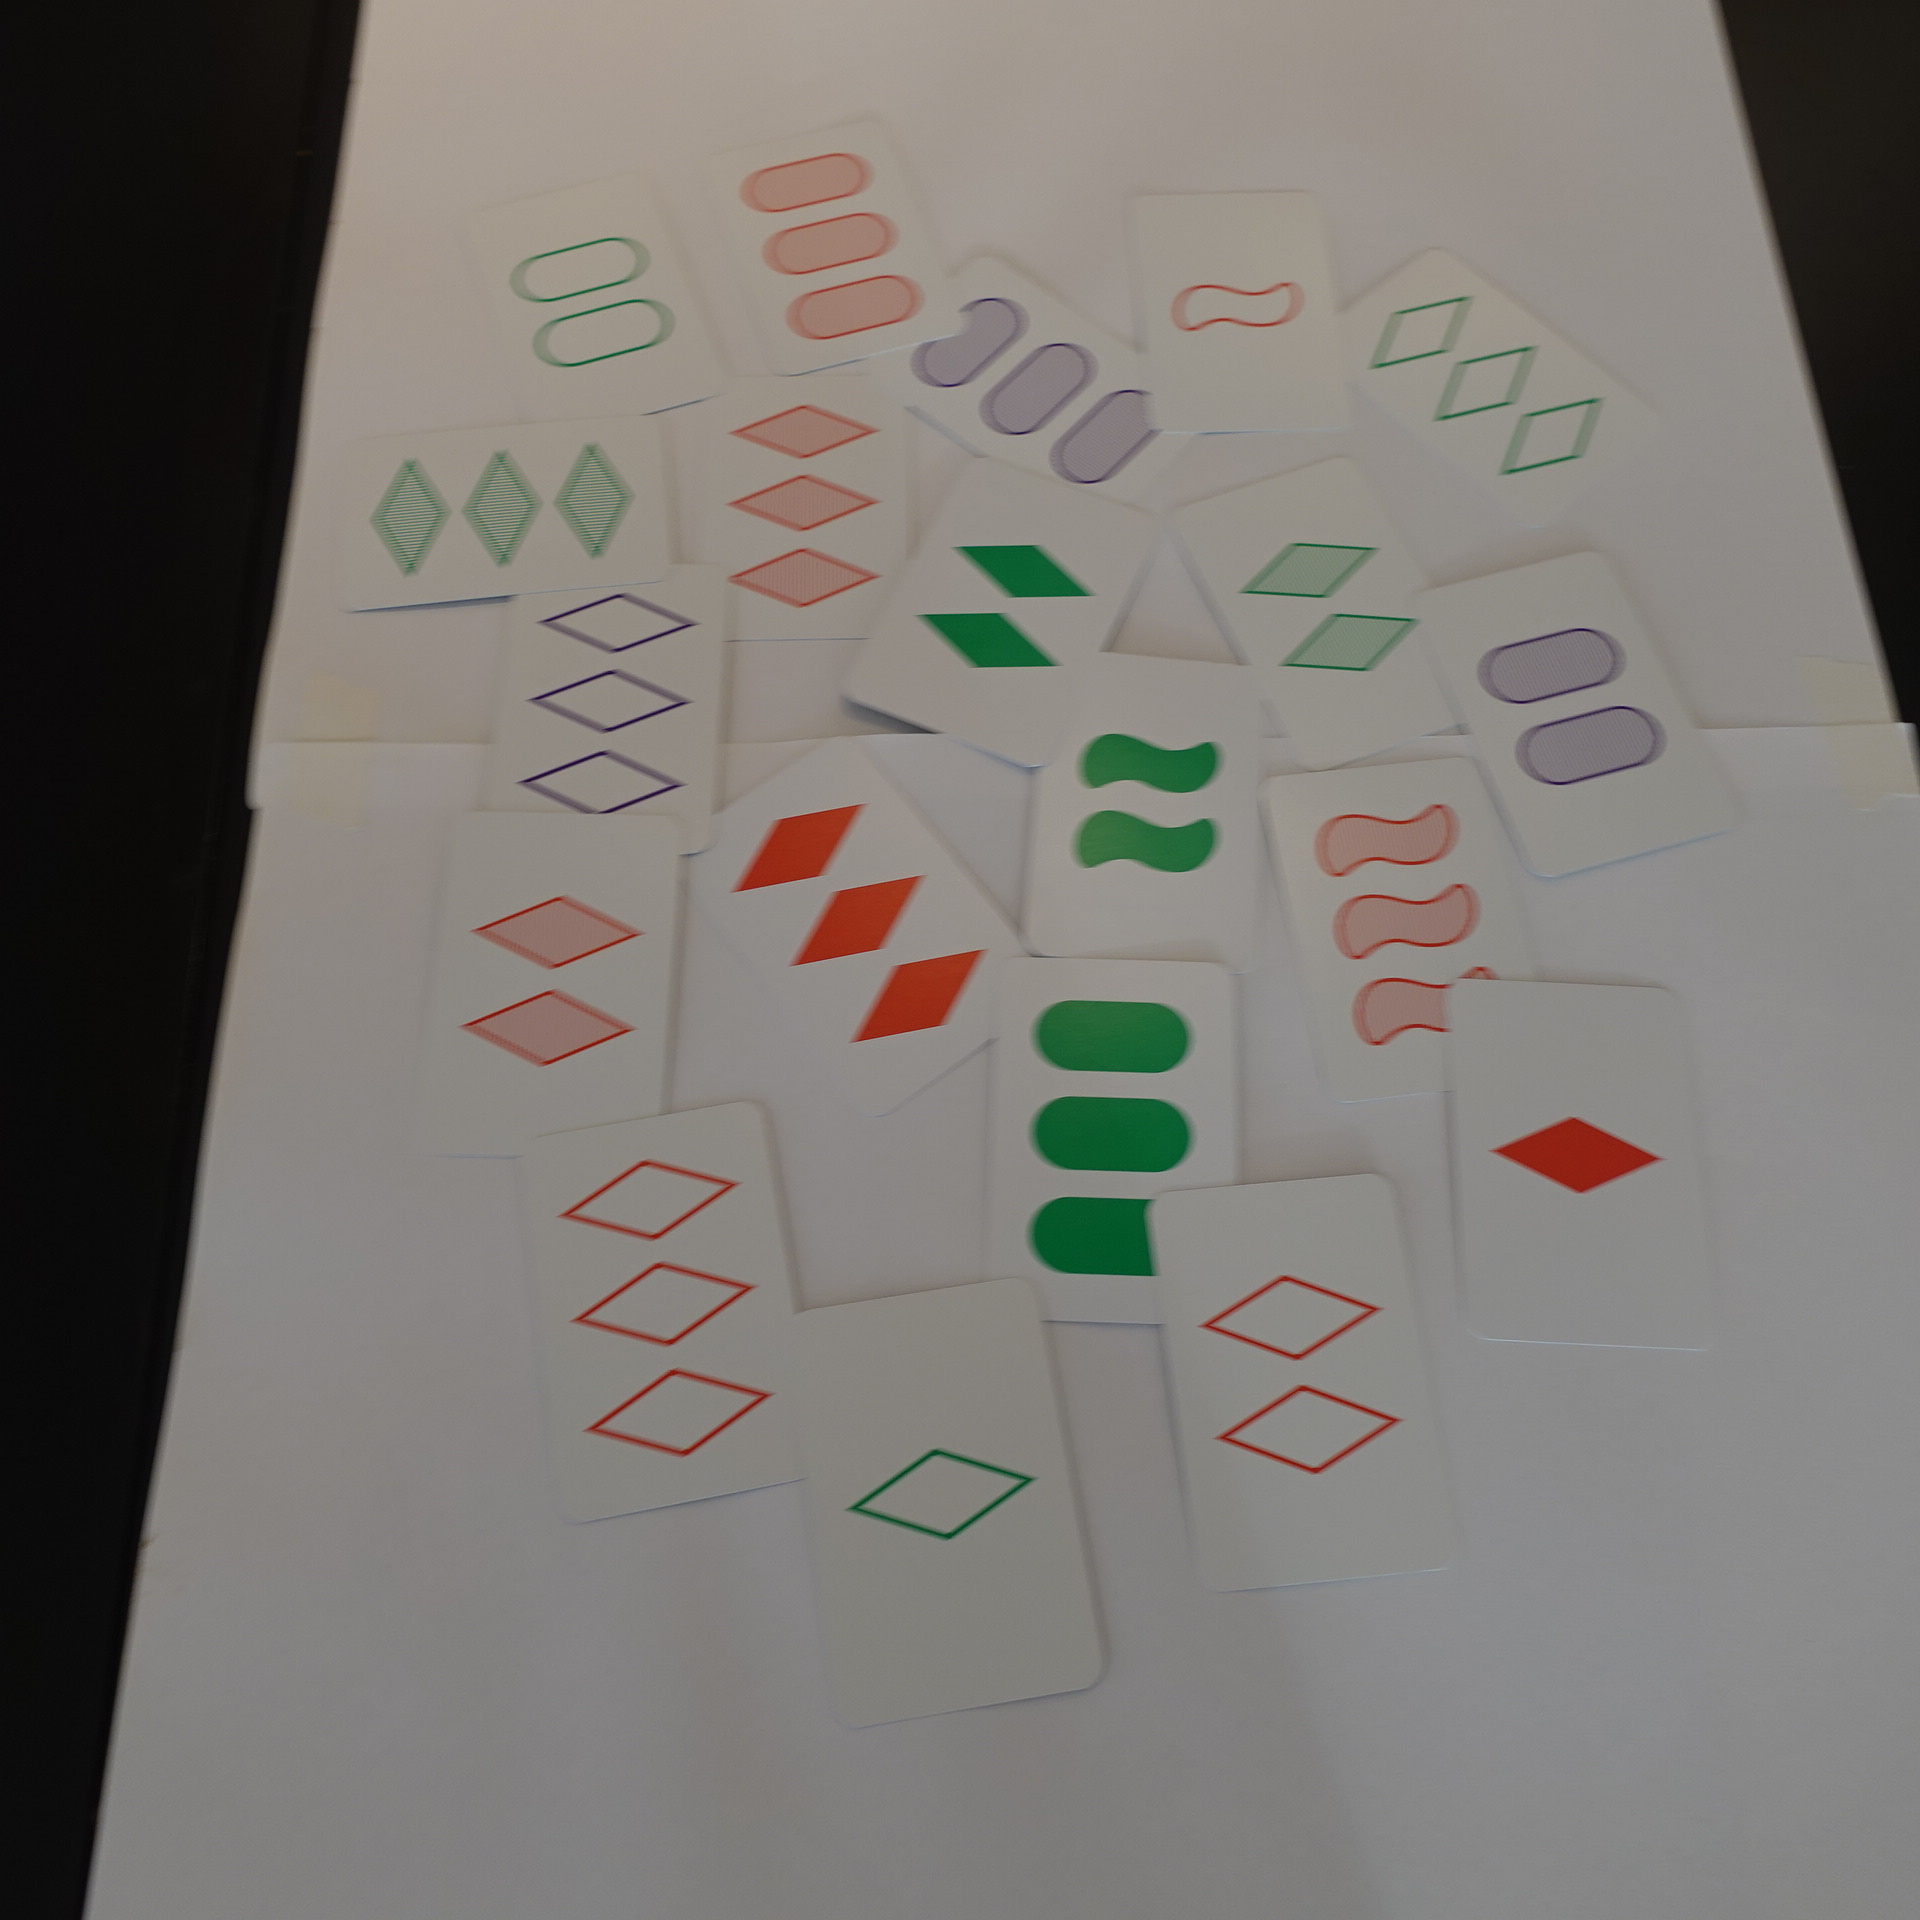c-2-h-o-r: (1109, 1167, 1224, 1240)
